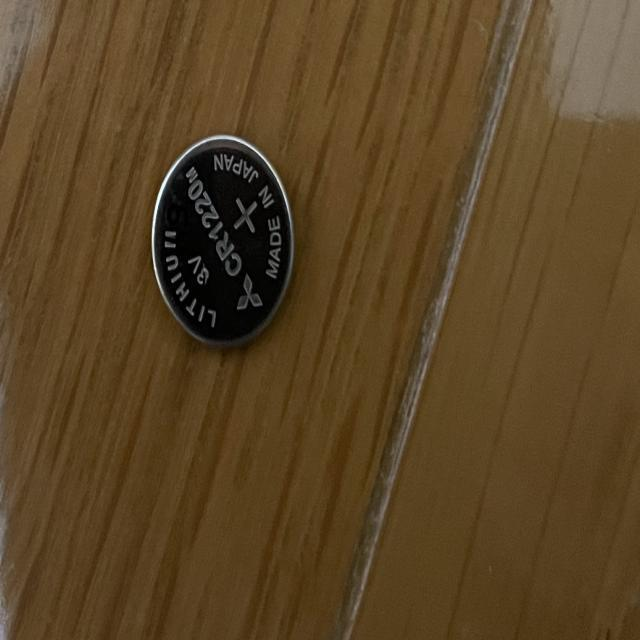COIN: (152, 134, 296, 346)
